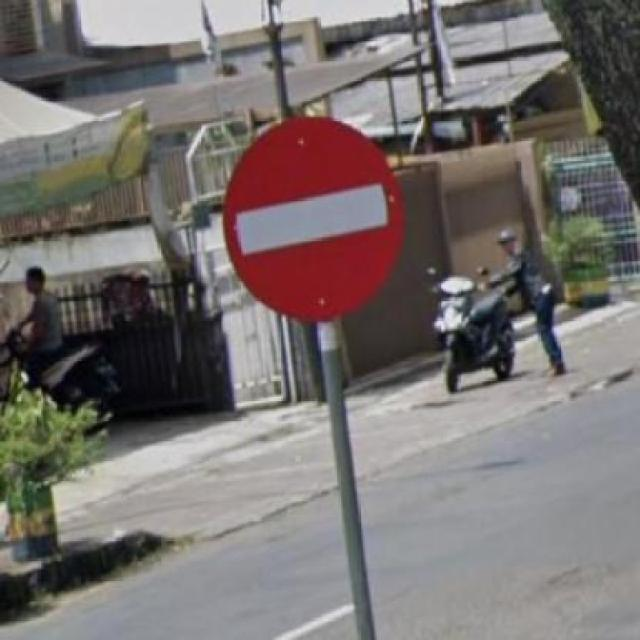no entry: (209, 102, 412, 330)
